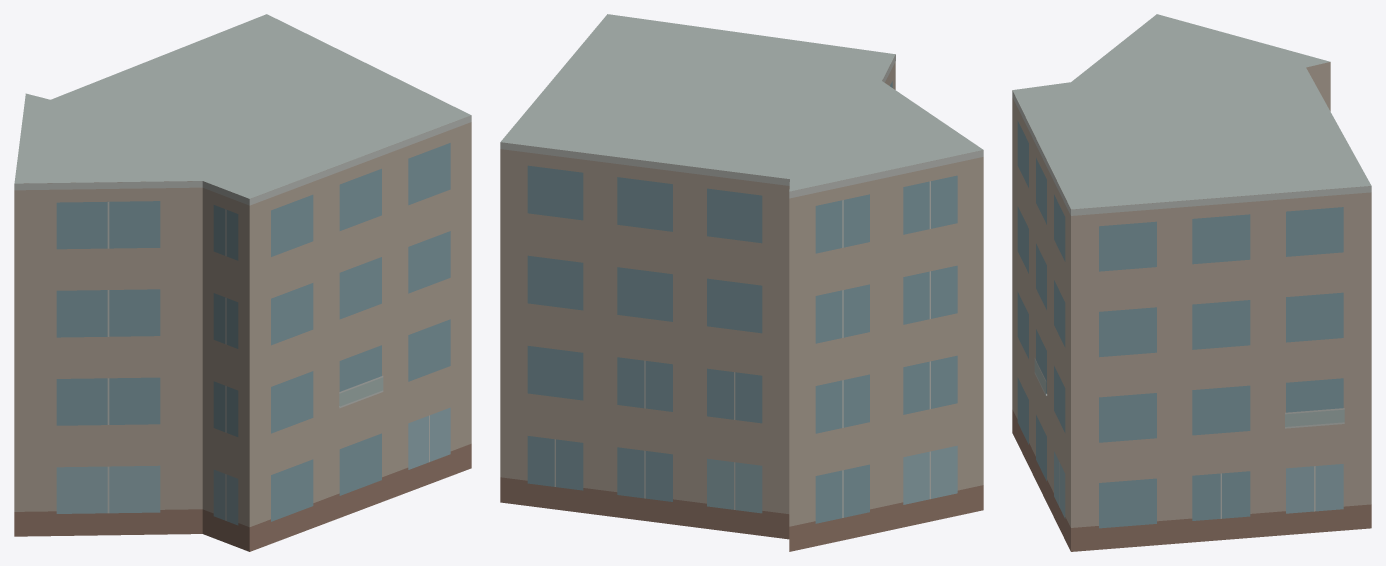
The model's file is survey-upis-32644408.glb.
3 renders of one model, left to right at view 1: azimuth 30°, elevation 25°; view 2: azimuth 150°, elevation 25°; view 3: azimuth 270°, elevation 25°, orthographic. The views are drawn at different scales.
Visible parts, largest first — view 1: survey-upis-32644408.tmp; view 2: survey-upis-32644408.tmp; view 3: survey-upis-32644408.tmp.
Boxes of the visible parts, x1=… form: survey-upis-32644408.tmp: x1=14, y1=14, x2=471, y2=551; survey-upis-32644408.tmp: x1=500, y1=14, x2=983, y2=551; survey-upis-32644408.tmp: x1=1012, y1=14, x2=1371, y2=551.
Bounding box in the file's own units: 15.68 × 12.8 × 12.18.
